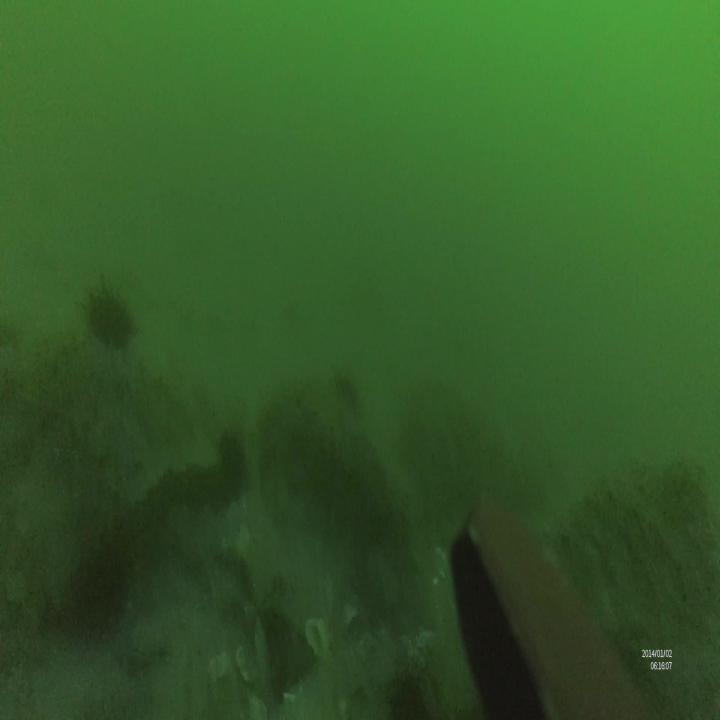echinus: (83, 276, 135, 348)
